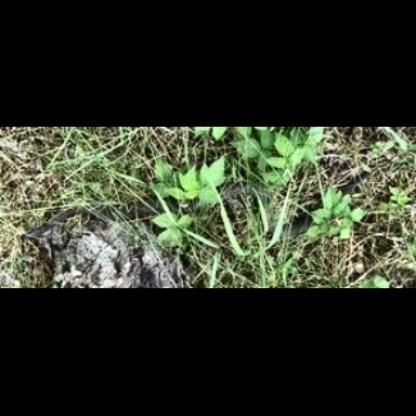Snake: (0, 122, 414, 289)
